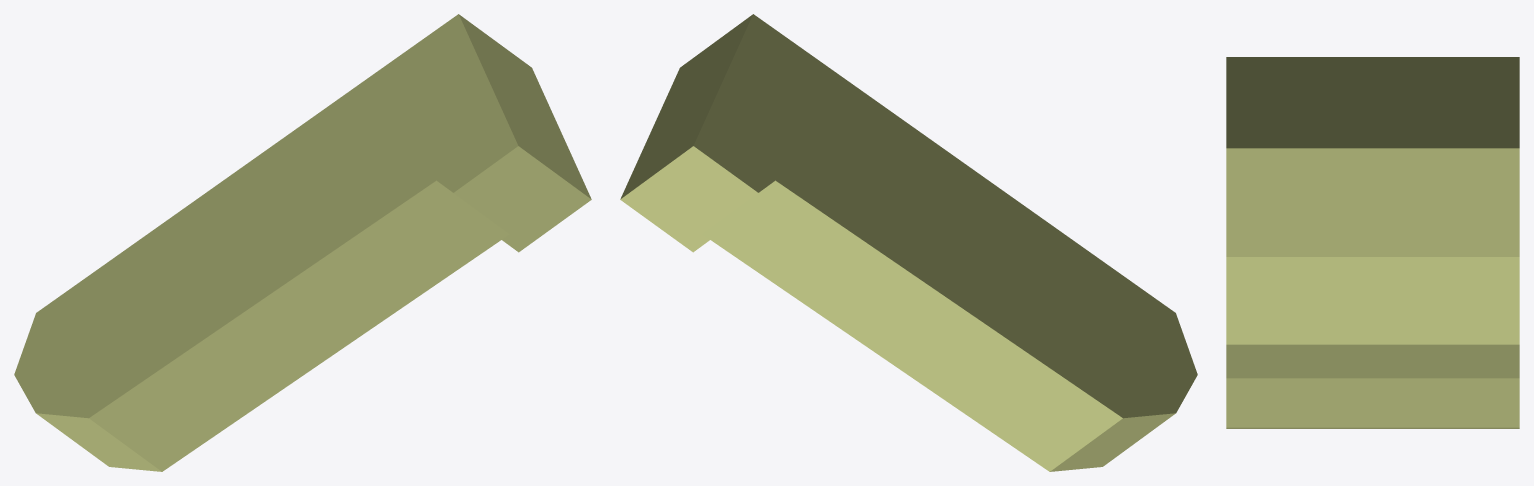
3 views of the same model, side by side, from view 1: azimuth 30°, elevation 25°; view 2: azimuth 150°, elevation 25°; view 3: azimuth 270°, elevation 25° (orthographic). The views are drawn at different scales.
Parts seen in each view (by area): view 1: 0_1_0_2_0_1_3_2_2; view 2: 0_1_0_2_0_1_3_2_2; view 3: 0_1_0_2_0_1_3_2_2.
Part boxes in pixels (x1=…): 0_1_0_2_0_1_3_2_2: x1=14, y1=14, x2=591, y2=471; 0_1_0_2_0_1_3_2_2: x1=620, y1=14, x2=1197, y2=471; 0_1_0_2_0_1_3_2_2: x1=1226, y1=57, x2=1519, y2=428.
Size of the model in its own units: 23.81 by 14.17 by 6.
